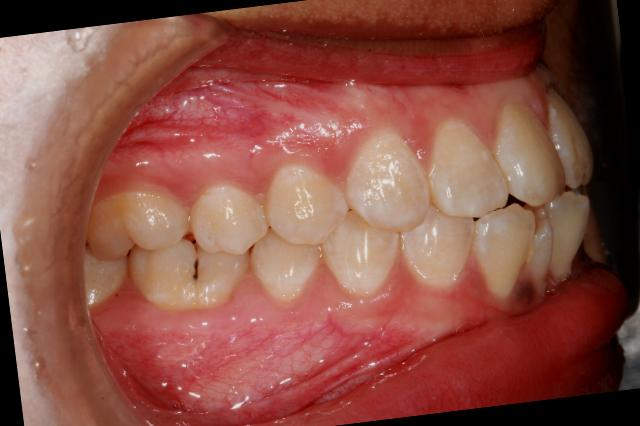canine class I: (329, 112, 484, 314)
molar class III 1/2: (80, 170, 256, 333)
